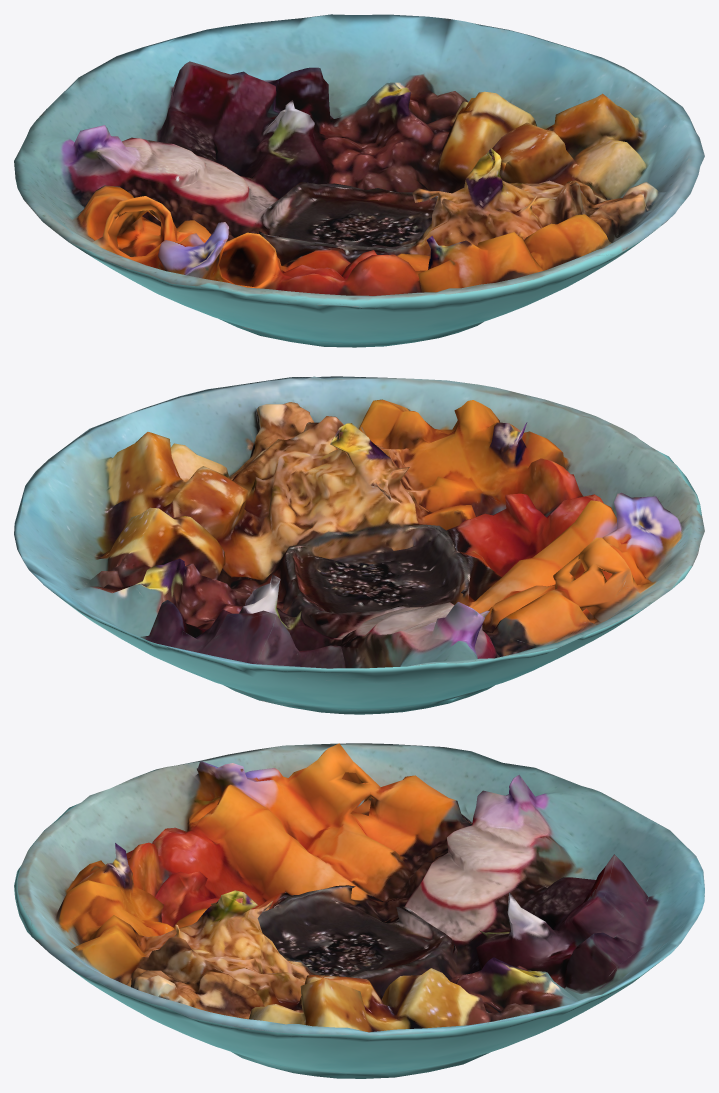
File: PokeBowl.fbx
3 renders of one model, top to bottom at view 1: azimuth 30°, elevation 25°; view 2: azimuth 150°, elevation 25°; view 3: azimuth 270°, elevation 25°, orthographic.
Visible parts, largest first — view 1: PokeBowl; view 2: PokeBowl; view 3: PokeBowl.
Part boxes in pixels (x1,y1,x2,y2): PokeBowl: (14,14,704,347); PokeBowl: (14,376,704,714); PokeBowl: (14,743,704,1078).
Bounding box in the file's own units: 26.96 × 6.63 × 26.88.
